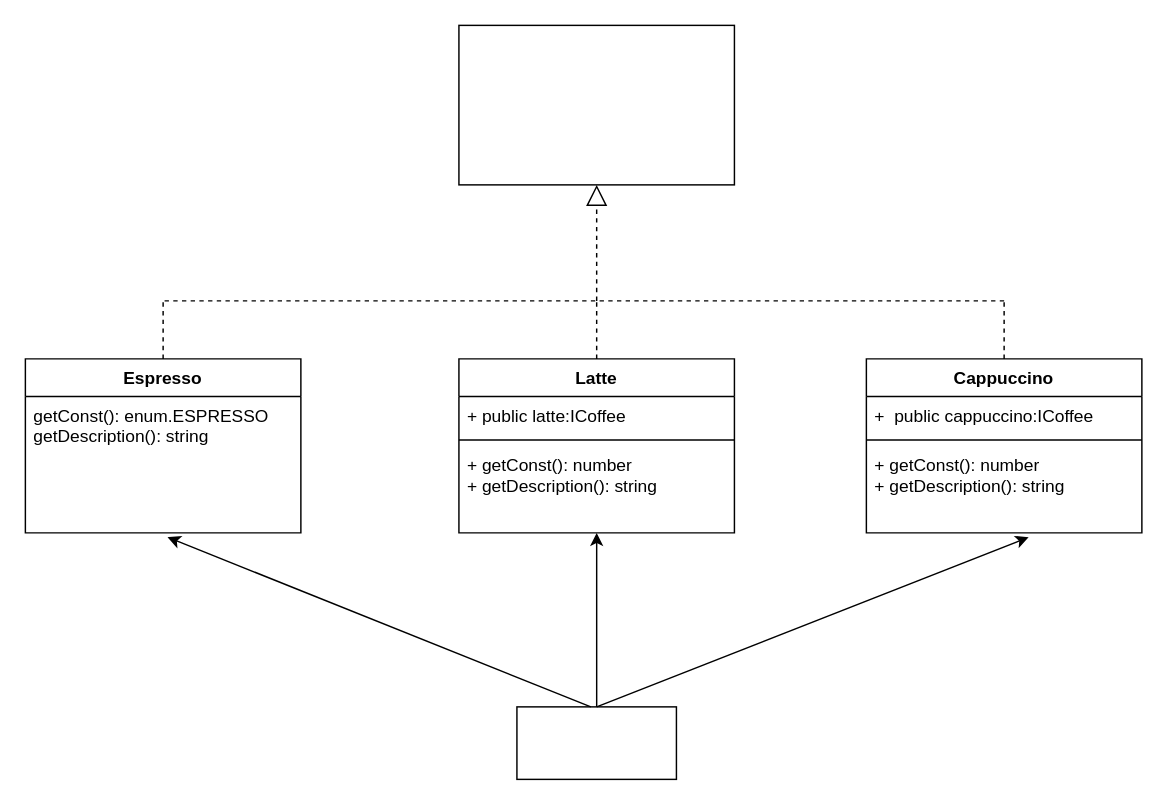
Some shapes in this 1167 by 805 pixel diagram are drawn without their labels. The centre of each missing label's shape, as x and y in pixels:
<<Interface>> ICoffe + getConst():number + getdescription():string: (x=595, y=104)
ConcreteProduct: (x=595, y=742)
